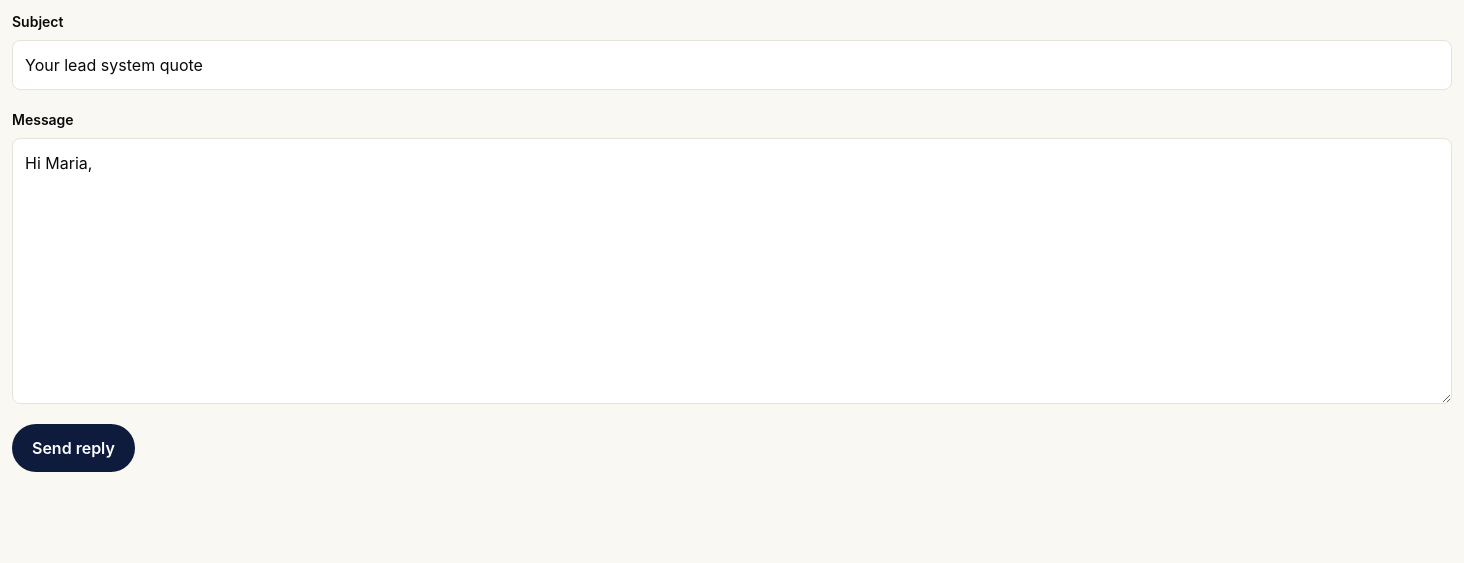
Test: LeadReplyDraft › explains that demo replies are logged, not emailed
Click the button "Send reply" at (73, 448), box [12, 424, 135, 472]
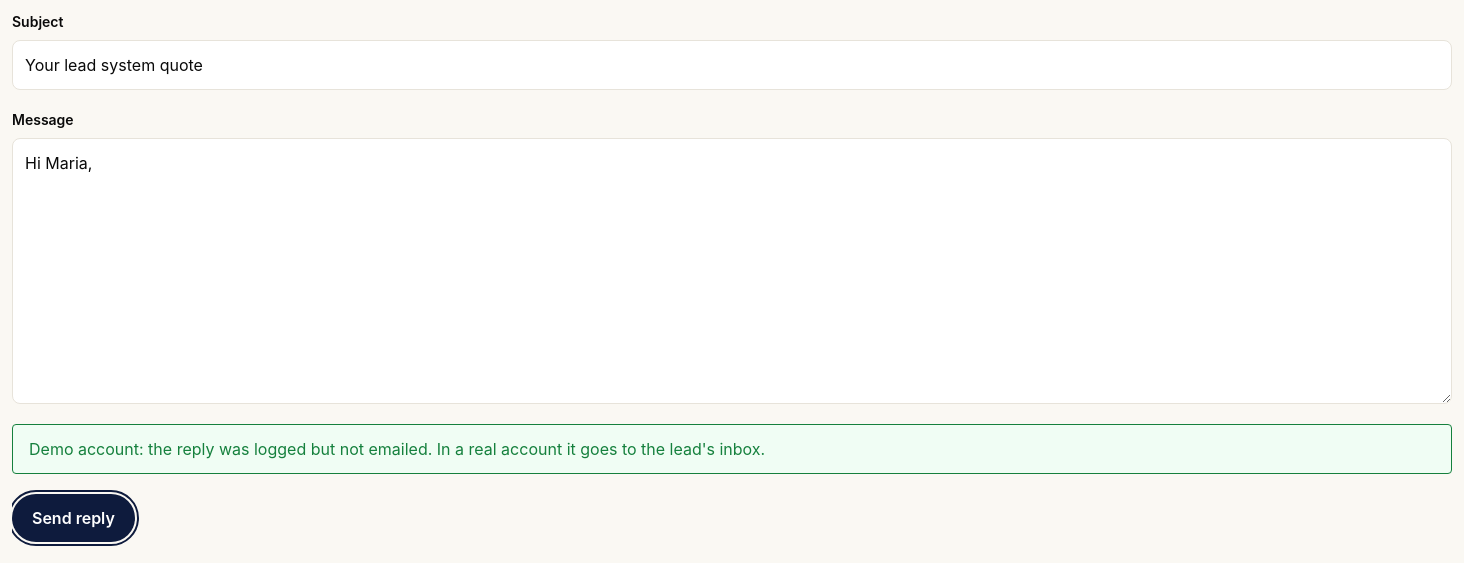
Result: the message shows "Demo account: the reply was logged but not emailed." at [29, 439, 765, 459]
